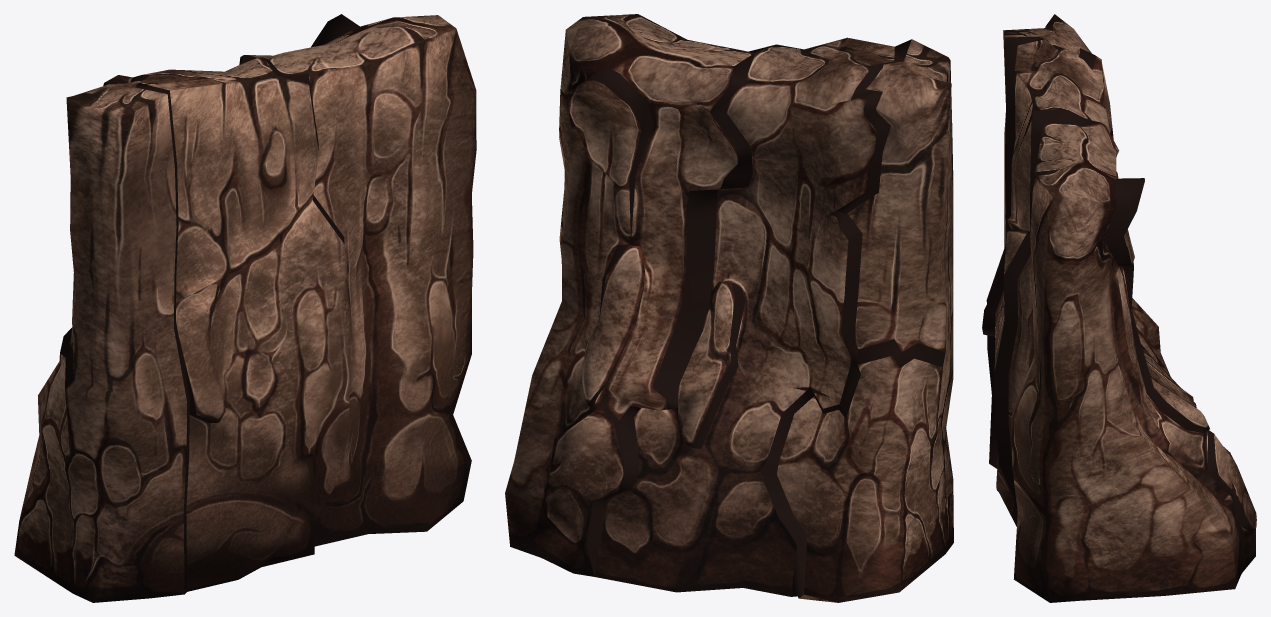
The model's file is bergmuurv3.fbx.
The picture shows the model from 3 angles, left to right: view 1: azimuth 30°, elevation 25°; view 2: azimuth 150°, elevation 25°; view 3: azimuth 270°, elevation 25°; orthographic projection. The views are drawn at different scales.
Parts seen in each view (by area): view 1: Plane; view 2: Plane; view 3: Plane.
Boxes of the visible parts, x1=… form: Plane: x1=14, y1=14, x2=476, y2=602; Plane: x1=505, y1=14, x2=953, y2=602; Plane: x1=982, y1=14, x2=1256, y2=602.
Bounding box in the file's own units: 482 × 576 × 332.
